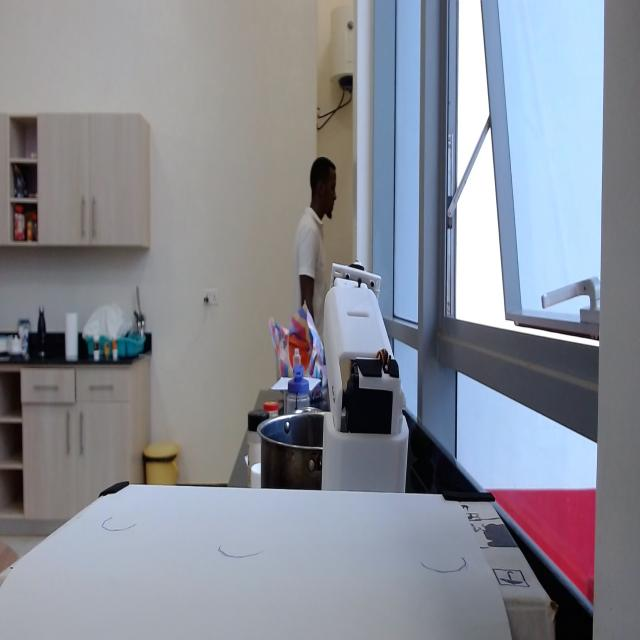cooking_pot: (254, 404, 324, 486)
